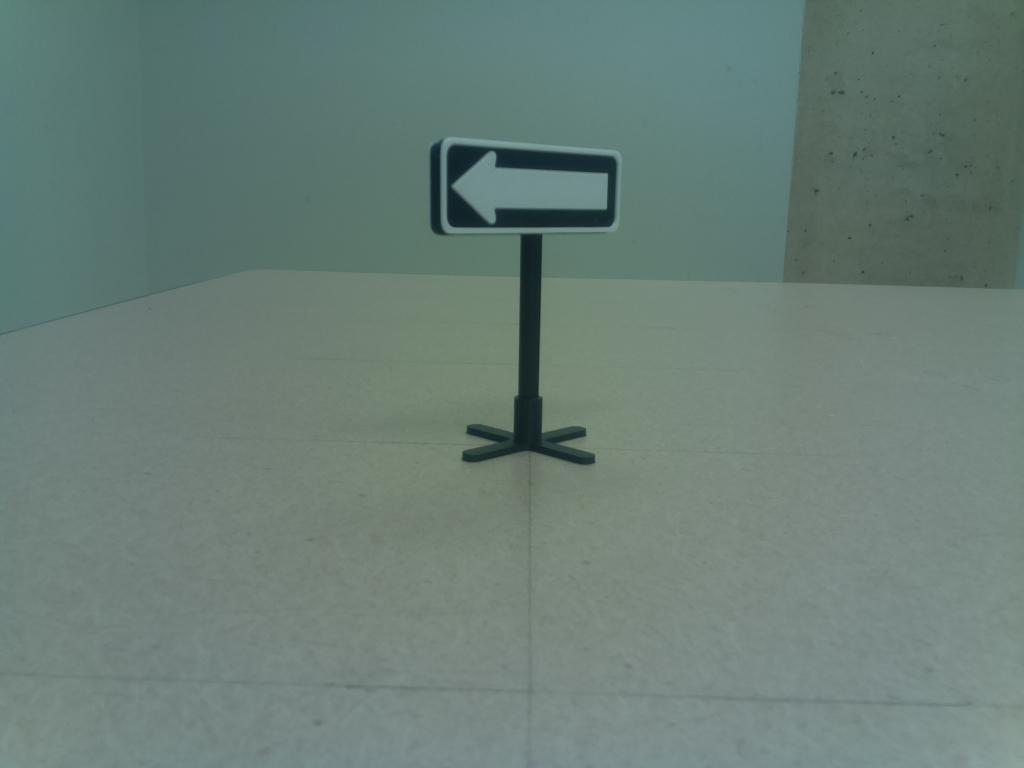sign_oneway_left: (423, 130, 628, 245)
